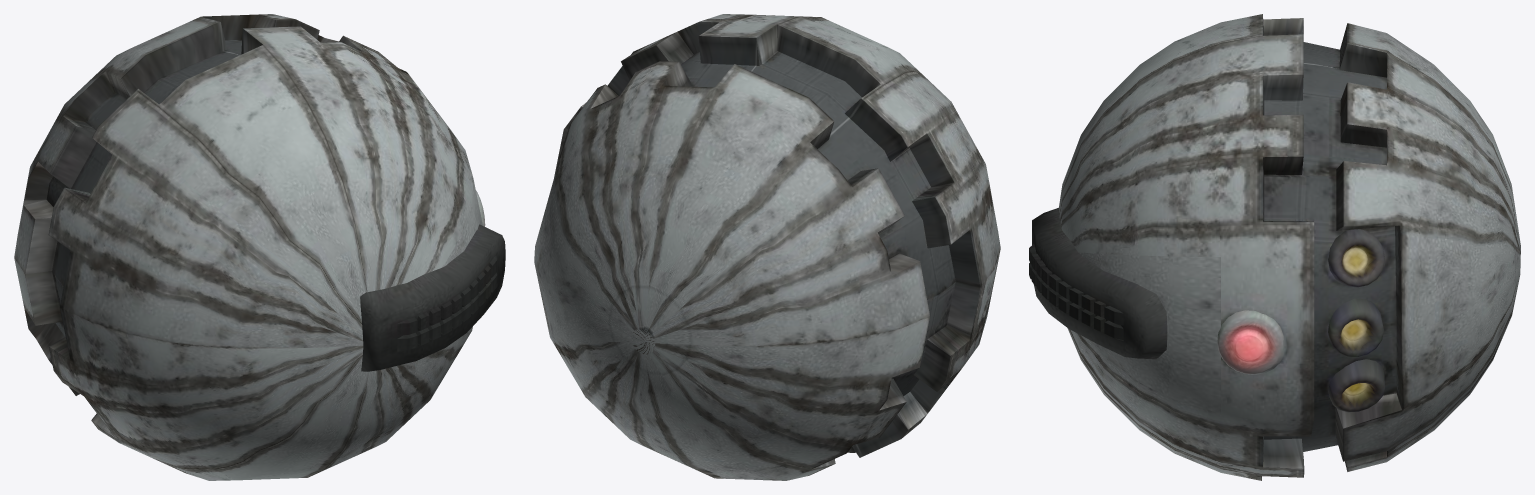
The model's file is detonator.glb.
3 views of the same model, side by side, from view 1: azimuth 30°, elevation 25°; view 2: azimuth 150°, elevation 25°; view 3: azimuth 270°, elevation 25° (orthographic).
Parts seen in each view (by area): view 1: thermal_detonator; view 2: thermal_detonator; view 3: thermal_detonator.
Boxes of the visible parts, x1,y1,x2,y2 form: thermal_detonator: [14, 14, 505, 480]; thermal_detonator: [534, 14, 1000, 480]; thermal_detonator: [1029, 14, 1520, 480].
Bounding box in the file's own units: 0.096 × 0.0956 × 0.1.
Materials: 1 (1 with a texture image).
